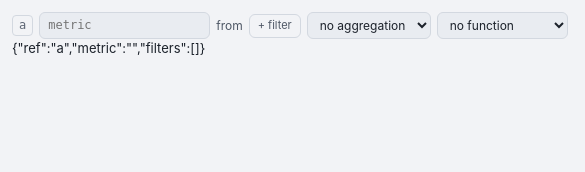
Test: QueryRow › shows metric suggestions on focus, before typing anything
What coordinates should you click on to do the following:
click the dropdown labelled "metric"
I would click on:
 (125, 26)
Its box is [39,12,210,39].
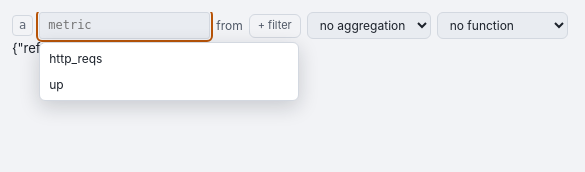
Expected: the option "http_reqs" is shown, [49,51,102,66]
Expected: the option "up" is shown, [49,77,64,92]
